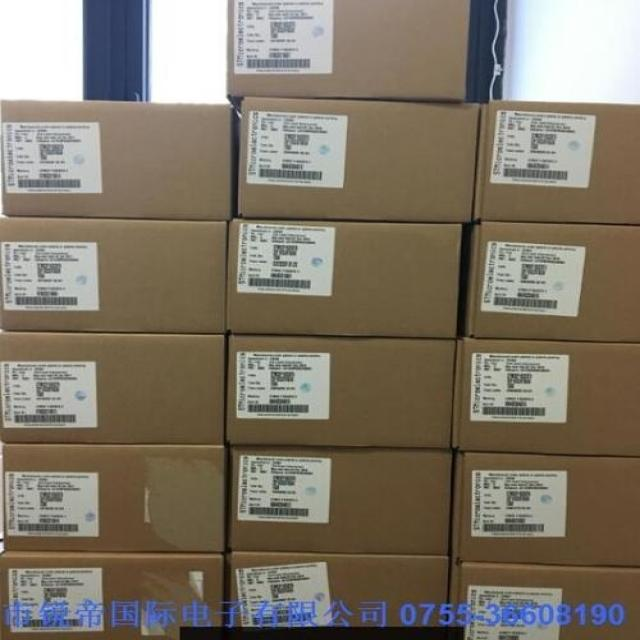box: (238, 100, 479, 224), (227, 221, 460, 341), (3, 100, 232, 220), (1, 220, 227, 335), (1, 331, 226, 446), (227, 337, 454, 449), (229, 446, 451, 557), (227, 0, 468, 100), (5, 446, 227, 553), (452, 338, 640, 458), (453, 453, 640, 565), (470, 224, 639, 345), (479, 100, 640, 224), (1, 550, 221, 637), (230, 551, 453, 633), (454, 563, 640, 640)
